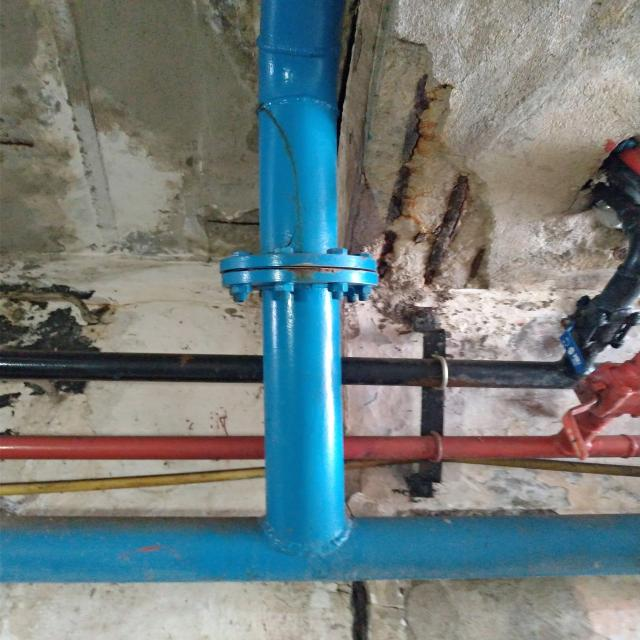gas: (261, 3, 349, 527), (6, 514, 636, 579), (345, 356, 584, 392), (350, 437, 638, 463), (0, 352, 262, 379), (3, 435, 264, 457)
